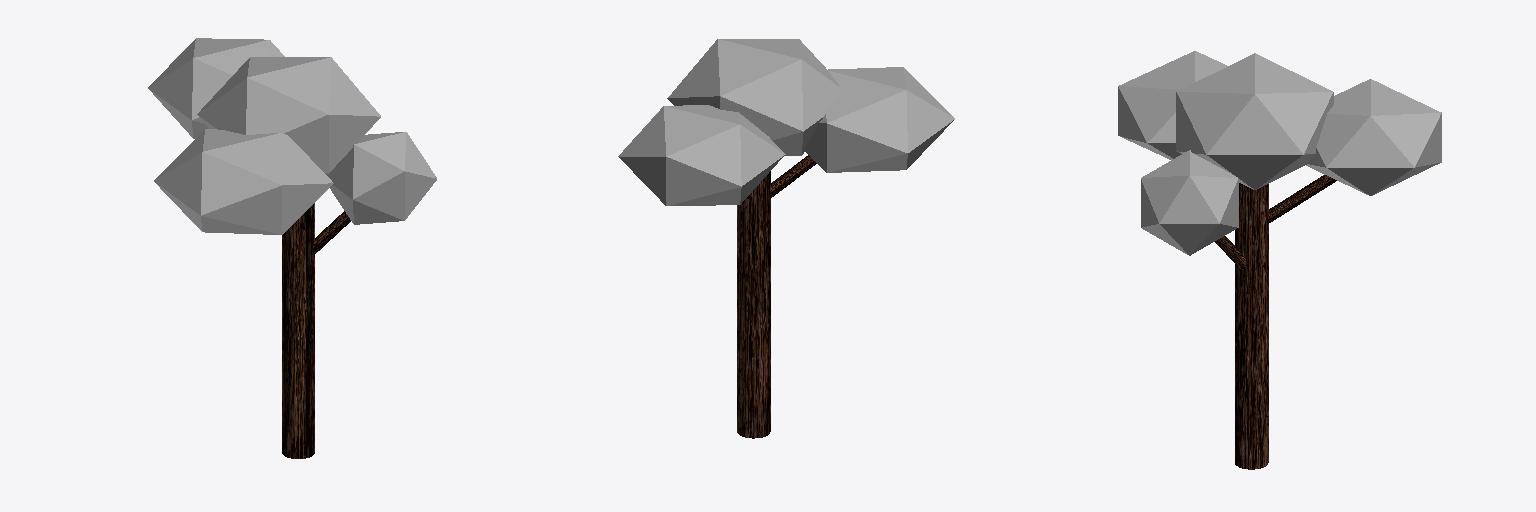
3 views of the same model, side by side, from view 1: azimuth 30°, elevation 25°; view 2: azimuth 150°, elevation 25°; view 3: azimuth 270°, elevation 25° (orthographic).
Visible parts, largest first — view 1: Icosahedron22, Icosahedron24, Cylinder60, Icosahedron21, Icosahedron23, Cylinder61; view 2: Icosahedron23, Icosahedron24, Icosahedron22, Cylinder60, Cylinder62; view 3: Icosahedron24, Icosahedron23, Cylinder60, Icosahedron21, Icosahedron22, Cylinder63.
Part boxes in pixels (bbox=[...]): Icosahedron22: bbox=[154, 129, 333, 234]; Icosahedron24: bbox=[197, 57, 380, 173]; Cylinder60: bbox=[282, 203, 314, 458]; Icosahedron21: bbox=[326, 132, 436, 224]; Icosahedron23: bbox=[148, 38, 284, 138]; Cylinder61: bbox=[313, 211, 350, 254]; Icosahedron23: bbox=[618, 105, 785, 205]; Icosahedron24: bbox=[667, 39, 841, 155]; Icosahedron22: bbox=[804, 67, 954, 172]; Cylinder60: bbox=[737, 171, 770, 438]; Cylinder62: bbox=[770, 155, 816, 198]; Icosahedron24: bbox=[1176, 53, 1333, 189]; Icosahedron23: bbox=[1306, 79, 1441, 195]; Cylinder60: bbox=[1235, 183, 1268, 469]; Icosahedron21: bbox=[1141, 150, 1238, 255]; Icosahedron22: bbox=[1118, 51, 1227, 159]; Cylinder63: bbox=[1268, 175, 1336, 223].
Bounding box in the file's own units: 8.26 × 12.53 × 9.54.
2 materials, 1 textured.